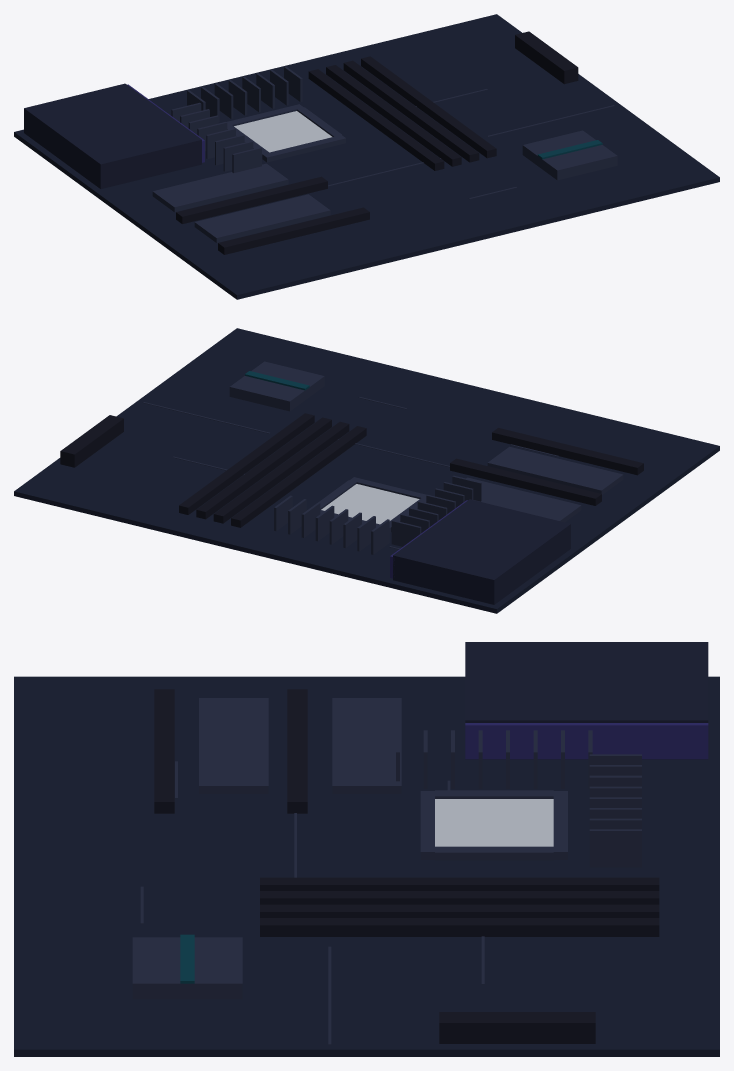
File: motherboard-atx.glb
3 renders of one model, top to bottom at view 1: azimuth 30°, elevation 25°; view 2: azimuth 150°, elevation 25°; view 3: azimuth 270°, elevation 25°, orthographic. The views are drawn at different scales.
Visible parts, largest first — view 1: pcb, io_shroud, ram_slots, m2_heatsinks, pcie_slots, vrm_heatsink_top, vrm_heatsink_left, chipset_heatsink, cpu_socket, retention_frame, atx_24pin, traces; view 2: pcb, io_shroud, ram_slots, m2_heatsinks, pcie_slots, vrm_heatsink_top, chipset_heatsink, vrm_heatsink_left, cpu_socket, atx_24pin, retention_frame, traces; view 3: pcb, ram_slots, io_shroud, m2_heatsinks, shroud_glow_edge, chipset_heatsink, vrm_heatsink_top, cpu_socket, pcie_slots, atx_24pin, retention_frame, vrm_heatsink_left (+2 smaller).
Boxes of the visible parts, box(x1,y1,x2,y2) form: pcb: box(14, 14, 719, 299); io_shroud: box(24, 83, 201, 188); ram_slots: box(308, 56, 496, 170); m2_heatsinks: box(152, 163, 330, 242); pcie_slots: box(176, 176, 369, 254); vrm_heatsink_top: box(187, 66, 302, 121); vrm_heatsink_left: box(171, 102, 261, 173); chipset_heatsink: box(522, 130, 617, 180); cpu_socket: box(234, 111, 331, 152); retention_frame: box(227, 104, 345, 162); atx_24pin: box(515, 31, 578, 84); traces: box(328, 89, 614, 199); pcb: box(14, 328, 719, 613); io_shroud: box(393, 499, 570, 604); ram_slots: box(179, 413, 366, 527); m2_heatsinks: box(466, 446, 623, 522); pcie_slots: box(450, 428, 643, 505); vrm_heatsink_top: box(274, 495, 389, 554); chipset_heatsink: box(229, 361, 324, 411); vrm_heatsink_left: box(391, 475, 481, 546); cpu_socket: box(321, 484, 419, 524); atx_24pin: box(60, 415, 123, 467); retention_frame: box(319, 477, 426, 532); traces: box(143, 397, 558, 549); pcb: box(14, 676, 719, 1056); ram_slots: box(260, 877, 659, 936); io_shroud: box(465, 642, 708, 759); m2_heatsinks: box(199, 698, 401, 793); shroud_glow_edge: box(465, 723, 708, 759); chipset_heatsink: box(132, 937, 242, 999); vrm_heatsink_top: box(589, 754, 641, 867); cpu_socket: box(435, 799, 553, 846); pcie_slots: box(154, 689, 307, 813); atx_24pin: box(439, 1012, 595, 1043); retention_frame: box(420, 790, 567, 860); vrm_heatsink_left: box(396, 730, 592, 788).
Bounding box in the file's own units: 305 × 17.8 × 244.
